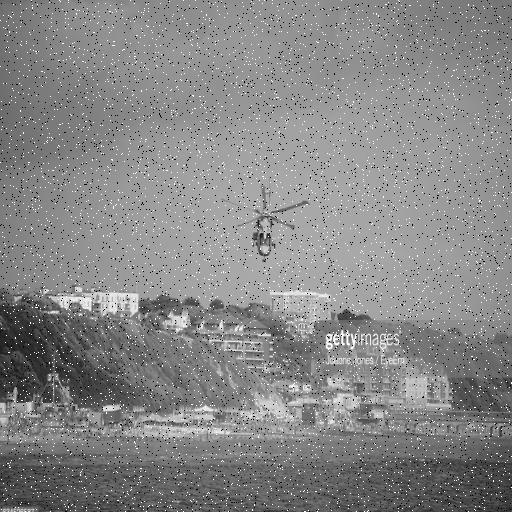helicopter: (222, 186, 310, 265)
